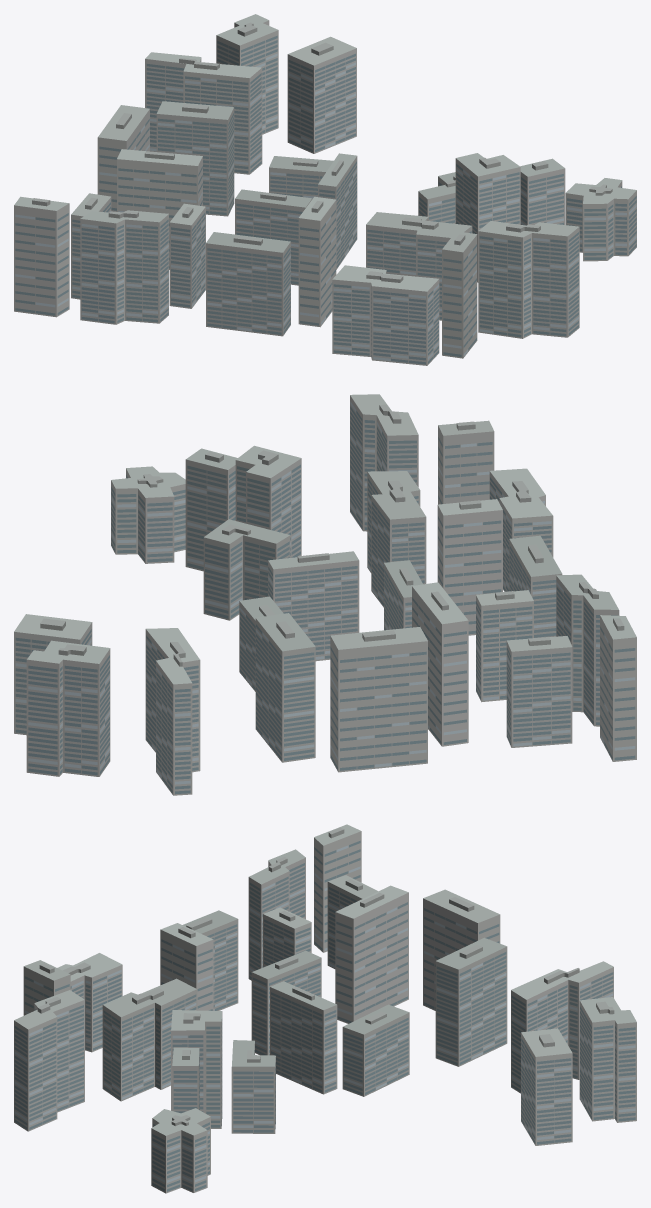
The model's file is apt-a14210002.glb.
3 renders of one model, top to bottom at view 1: azimuth 30°, elevation 25°; view 2: azimuth 150°, elevation 25°; view 3: azimuth 270°, elevation 25°, orthographic. The views are drawn at different scales.
Visible parts, largest first — view 1: apt-a14210002; view 2: apt-a14210002; view 3: apt-a14210002.
Part boxes in pixels (x1,y1,x2,y2): apt-a14210002: (14,14,636,365); apt-a14210002: (14,394,636,795); apt-a14210002: (14,824,636,1193).
Size of the model in its own units: 344 by 68 by 346.
